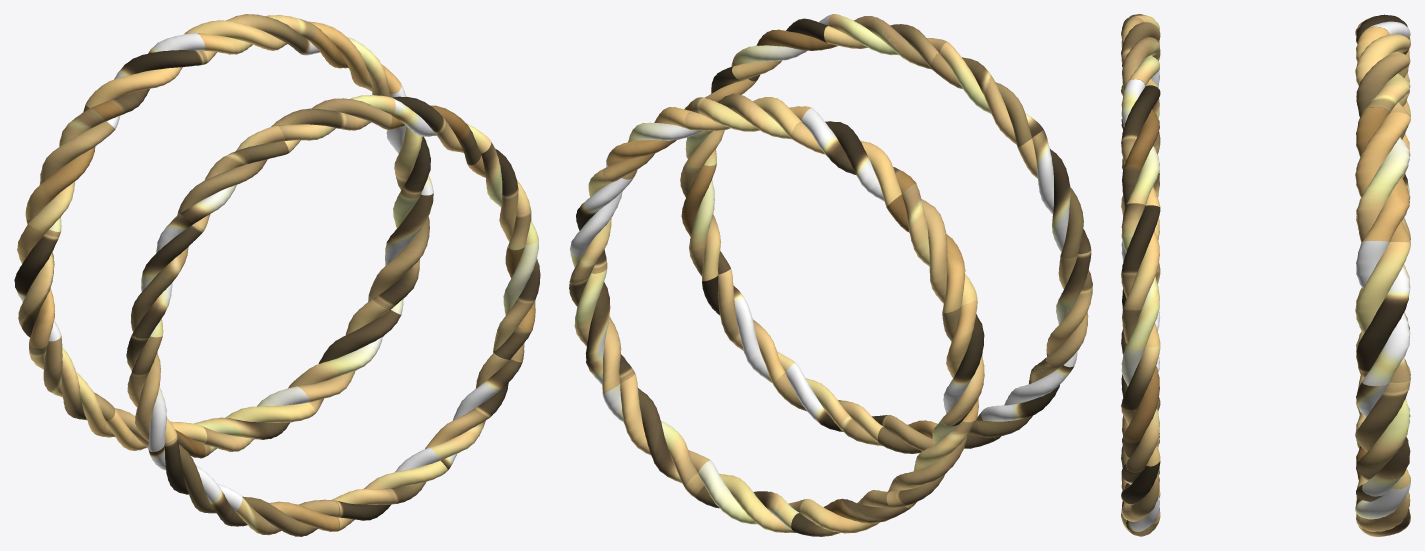
Rendered from rope.fbx.
3 renders of one model, left to right at view 1: azimuth 30°, elevation 25°; view 2: azimuth 150°, elevation 25°; view 3: azimuth 270°, elevation 25°, orthographic. The views are drawn at different scales.
Parts seen in each view (by area): view 1: size 16 rope; view 2: size 16 rope; view 3: size 16 rope.
Part boxes in pixels (x1,y1,x2,y2): size 16 rope: (14, 14, 540, 536); size 16 rope: (569, 14, 1092, 536); size 16 rope: (1121, 14, 1410, 536).
Bounding box in the file's own units: 18.81 × 10.43 × 18.82.
Materials: 1 (1 with a texture image).
